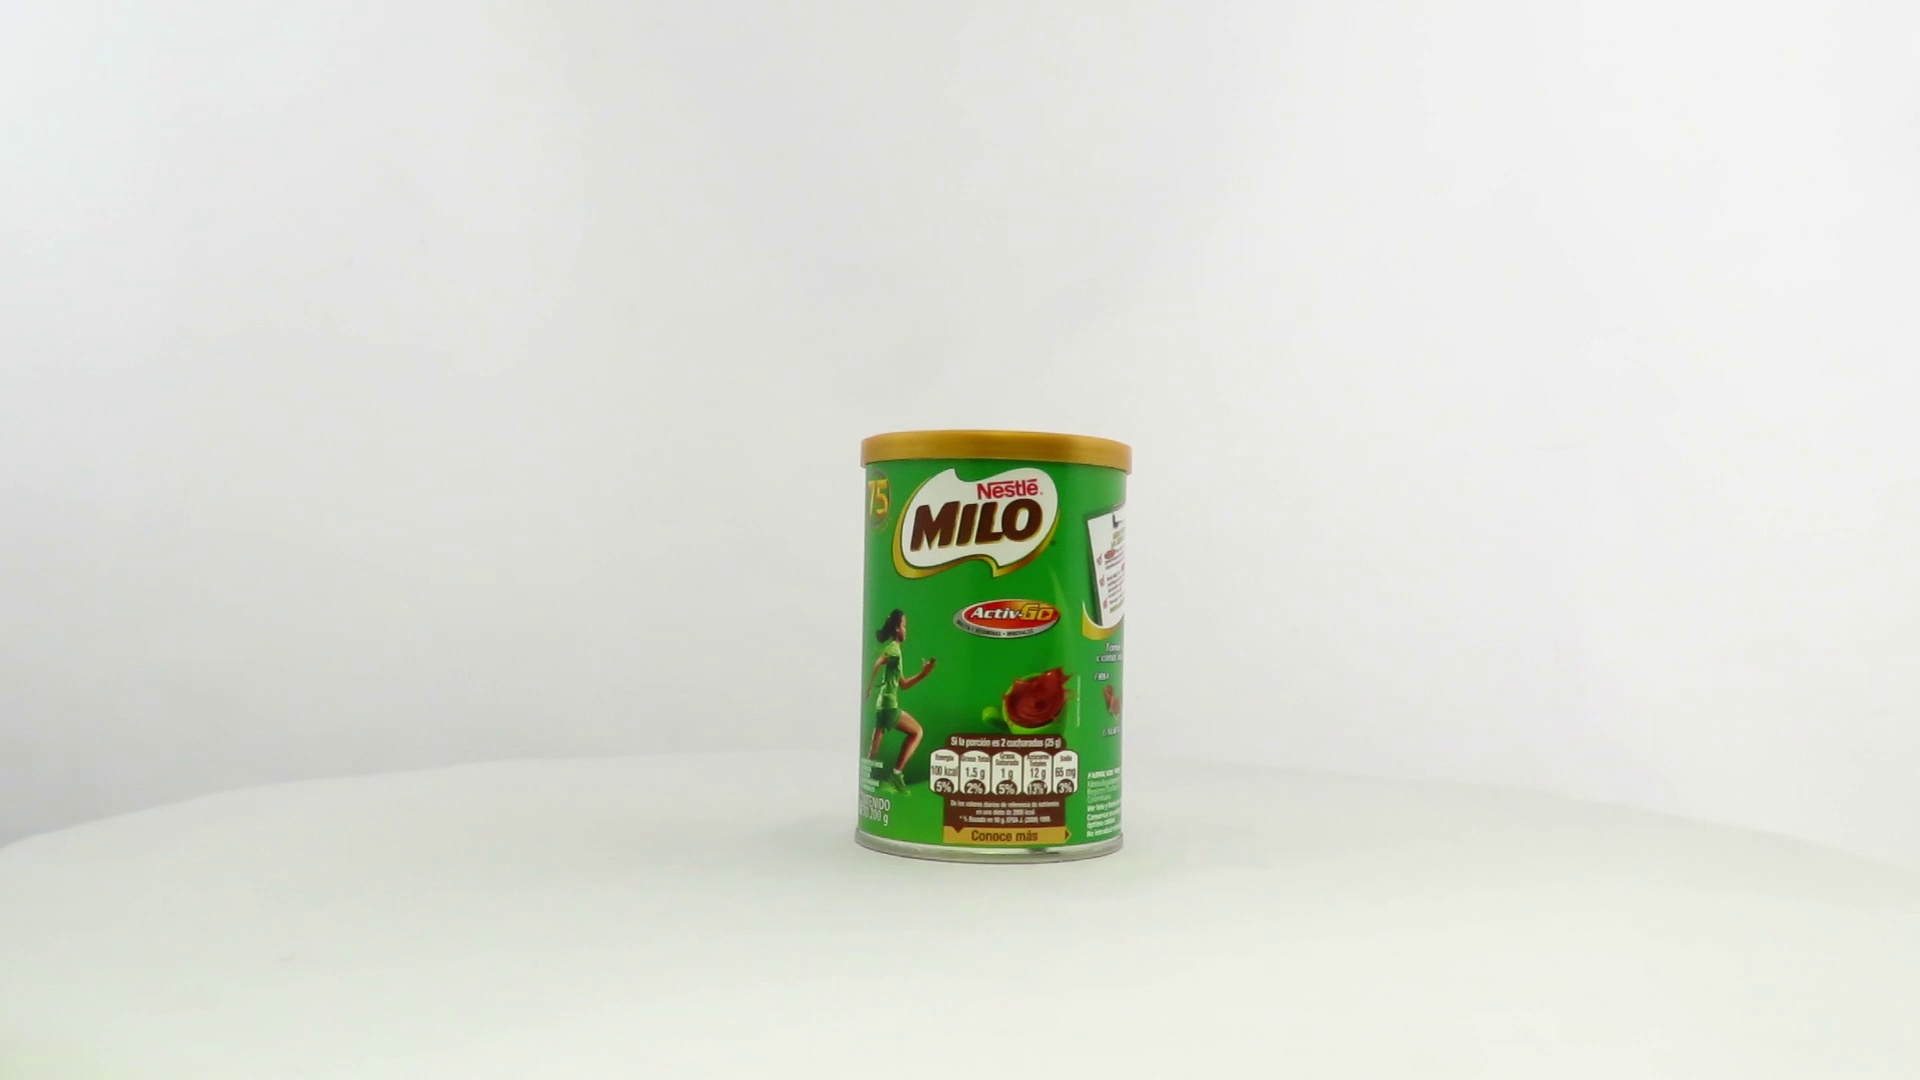COL0170203LAT20000: (849, 425, 1138, 872)
